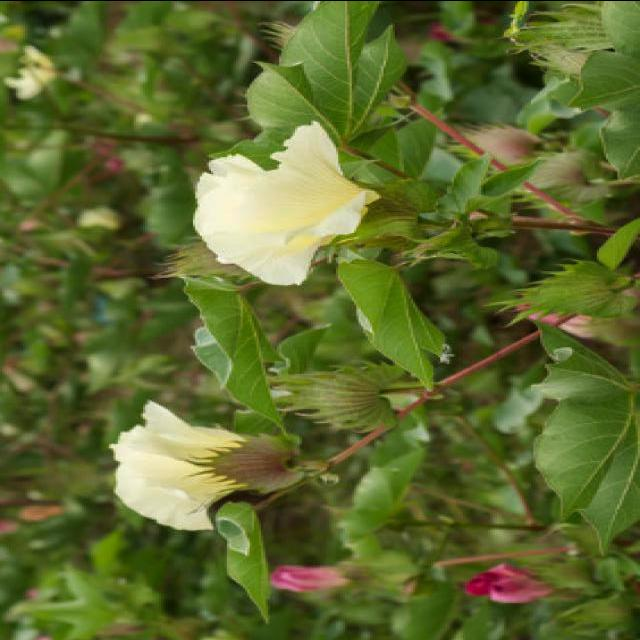Cotton Blossom: (189, 120, 411, 288), (103, 397, 307, 532), (259, 555, 409, 593), (458, 562, 566, 606)
Cotton Bud: (266, 363, 416, 436), (484, 256, 632, 320), (497, 148, 619, 217), (503, 5, 621, 72), (432, 119, 542, 171)
